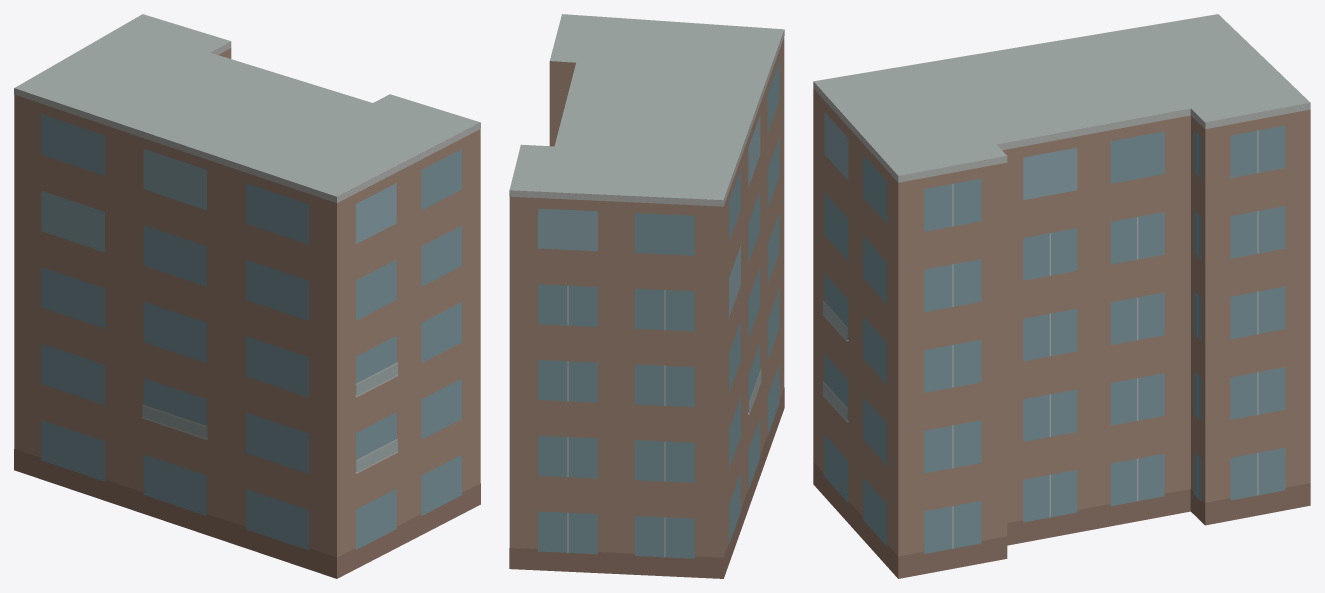
Rendered from survey-upis-32881765.glb.
The picture shows the model from 3 angles, left to right: view 1: azimuth 30°, elevation 25°; view 2: azimuth 150°, elevation 25°; view 3: azimuth 270°, elevation 25°; orthographic projection. The views are drawn at different scales.
Visible parts, largest first — view 1: survey-upis-32881765.tmp; view 2: survey-upis-32881765.tmp; view 3: survey-upis-32881765.tmp.
Boxes of the visible parts, x1,y1,x2,y2 form: survey-upis-32881765.tmp: (14, 14, 480, 578); survey-upis-32881765.tmp: (509, 14, 784, 578); survey-upis-32881765.tmp: (813, 14, 1310, 578).
Size of the model in its own units: 12.51 by 14.5 by 16.23.
